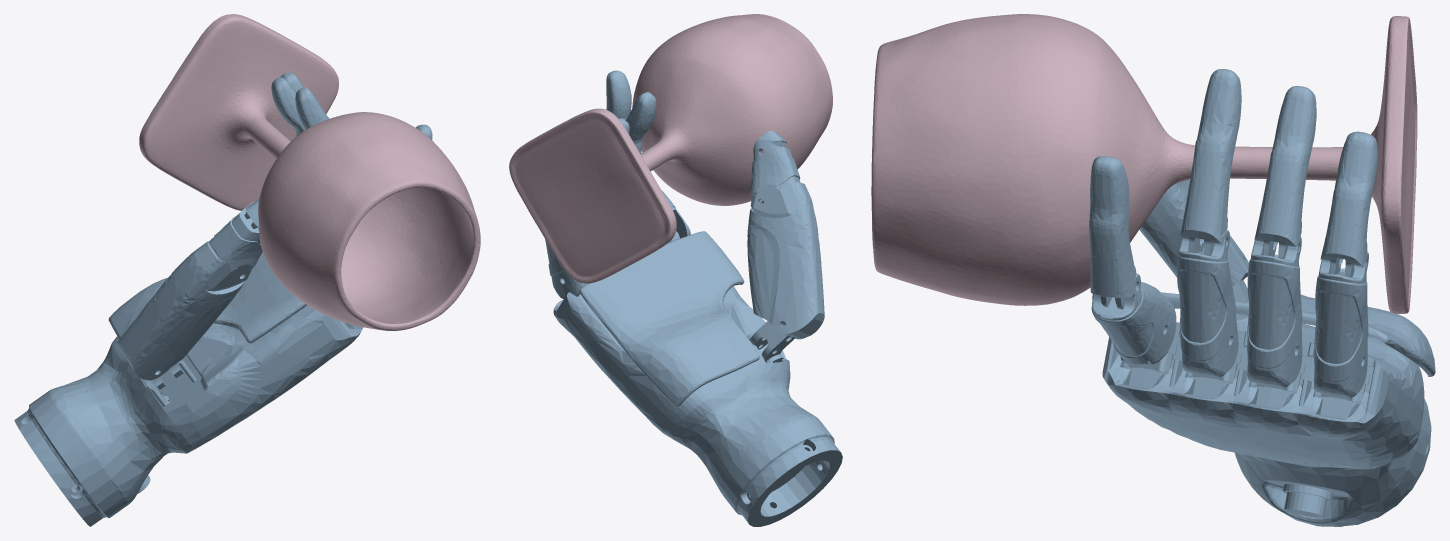
3 renders of one model, left to right at view 1: azimuth 30°, elevation 25°; view 2: azimuth 150°, elevation 25°; view 3: azimuth 270°, elevation 25°, orthographic. The views are drawn at different scales.
Visible parts, largest first — view 1: obj_mesh_grasp_10.obj, world; view 2: world, obj_mesh_grasp_10.obj; view 3: world, obj_mesh_grasp_10.obj.
Boxes of the visible parts, x1,y1,x2,y2 form: obj_mesh_grasp_10.obj: (139,14,480,330); world: (14,72,432,526); world: (545,70,842,526); obj_mesh_grasp_10.obj: (509,14,832,283); world: (1089,69,1435,526); obj_mesh_grasp_10.obj: (871,14,1417,313).
Bounding box in the file's own units: 0.153 × 0.193 × 0.1589.
